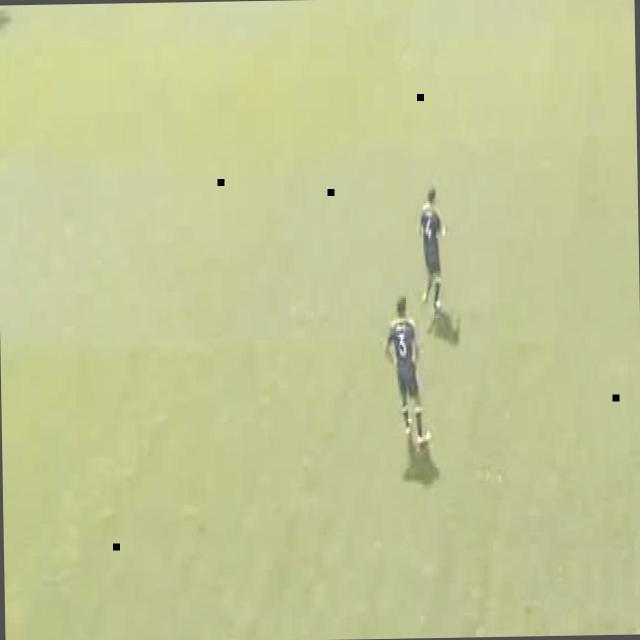player-white: (384, 294, 431, 448), (415, 186, 450, 317)
